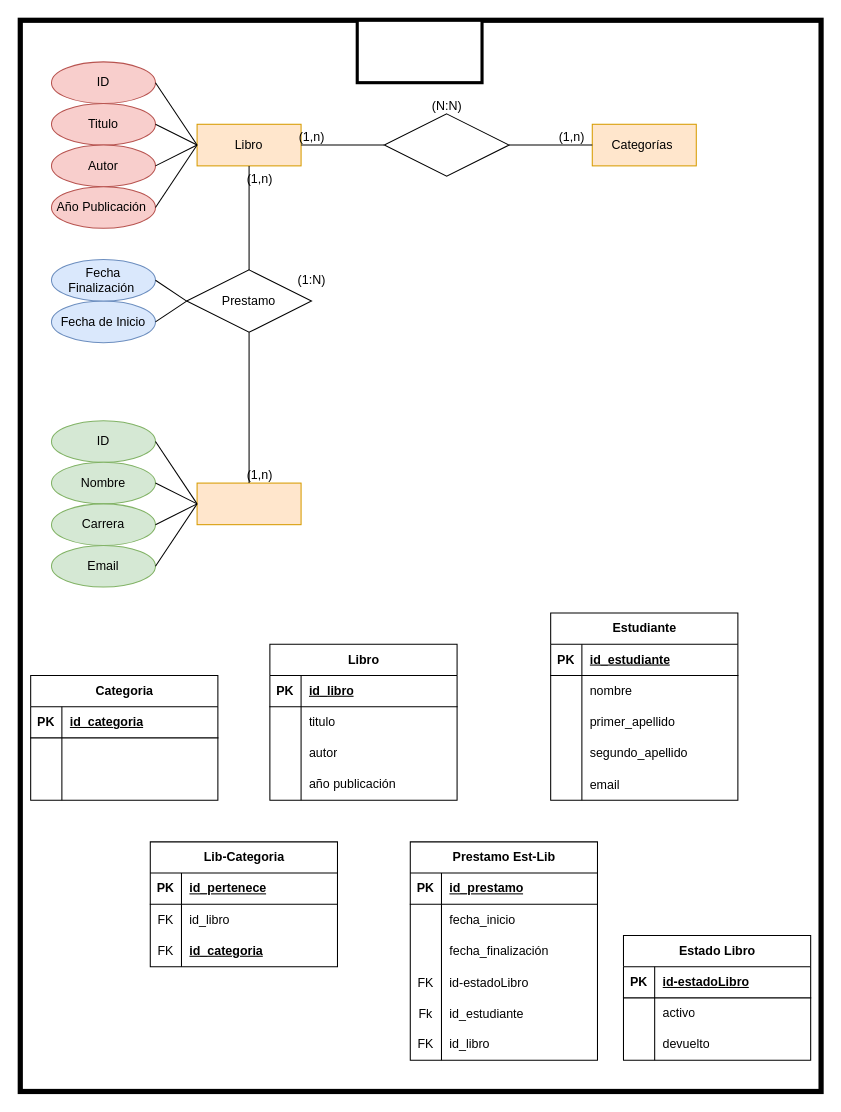
The diagram is 841 pixels wide and 1112 high, and some of its shapes have lost their labels. Each missing label, with the centre of its shape:
Ejercicio 1: Biblioteca Universitaria: the point at 419,51
Estudiantes: the point at 248,503
Pertenece: the point at 446,144
